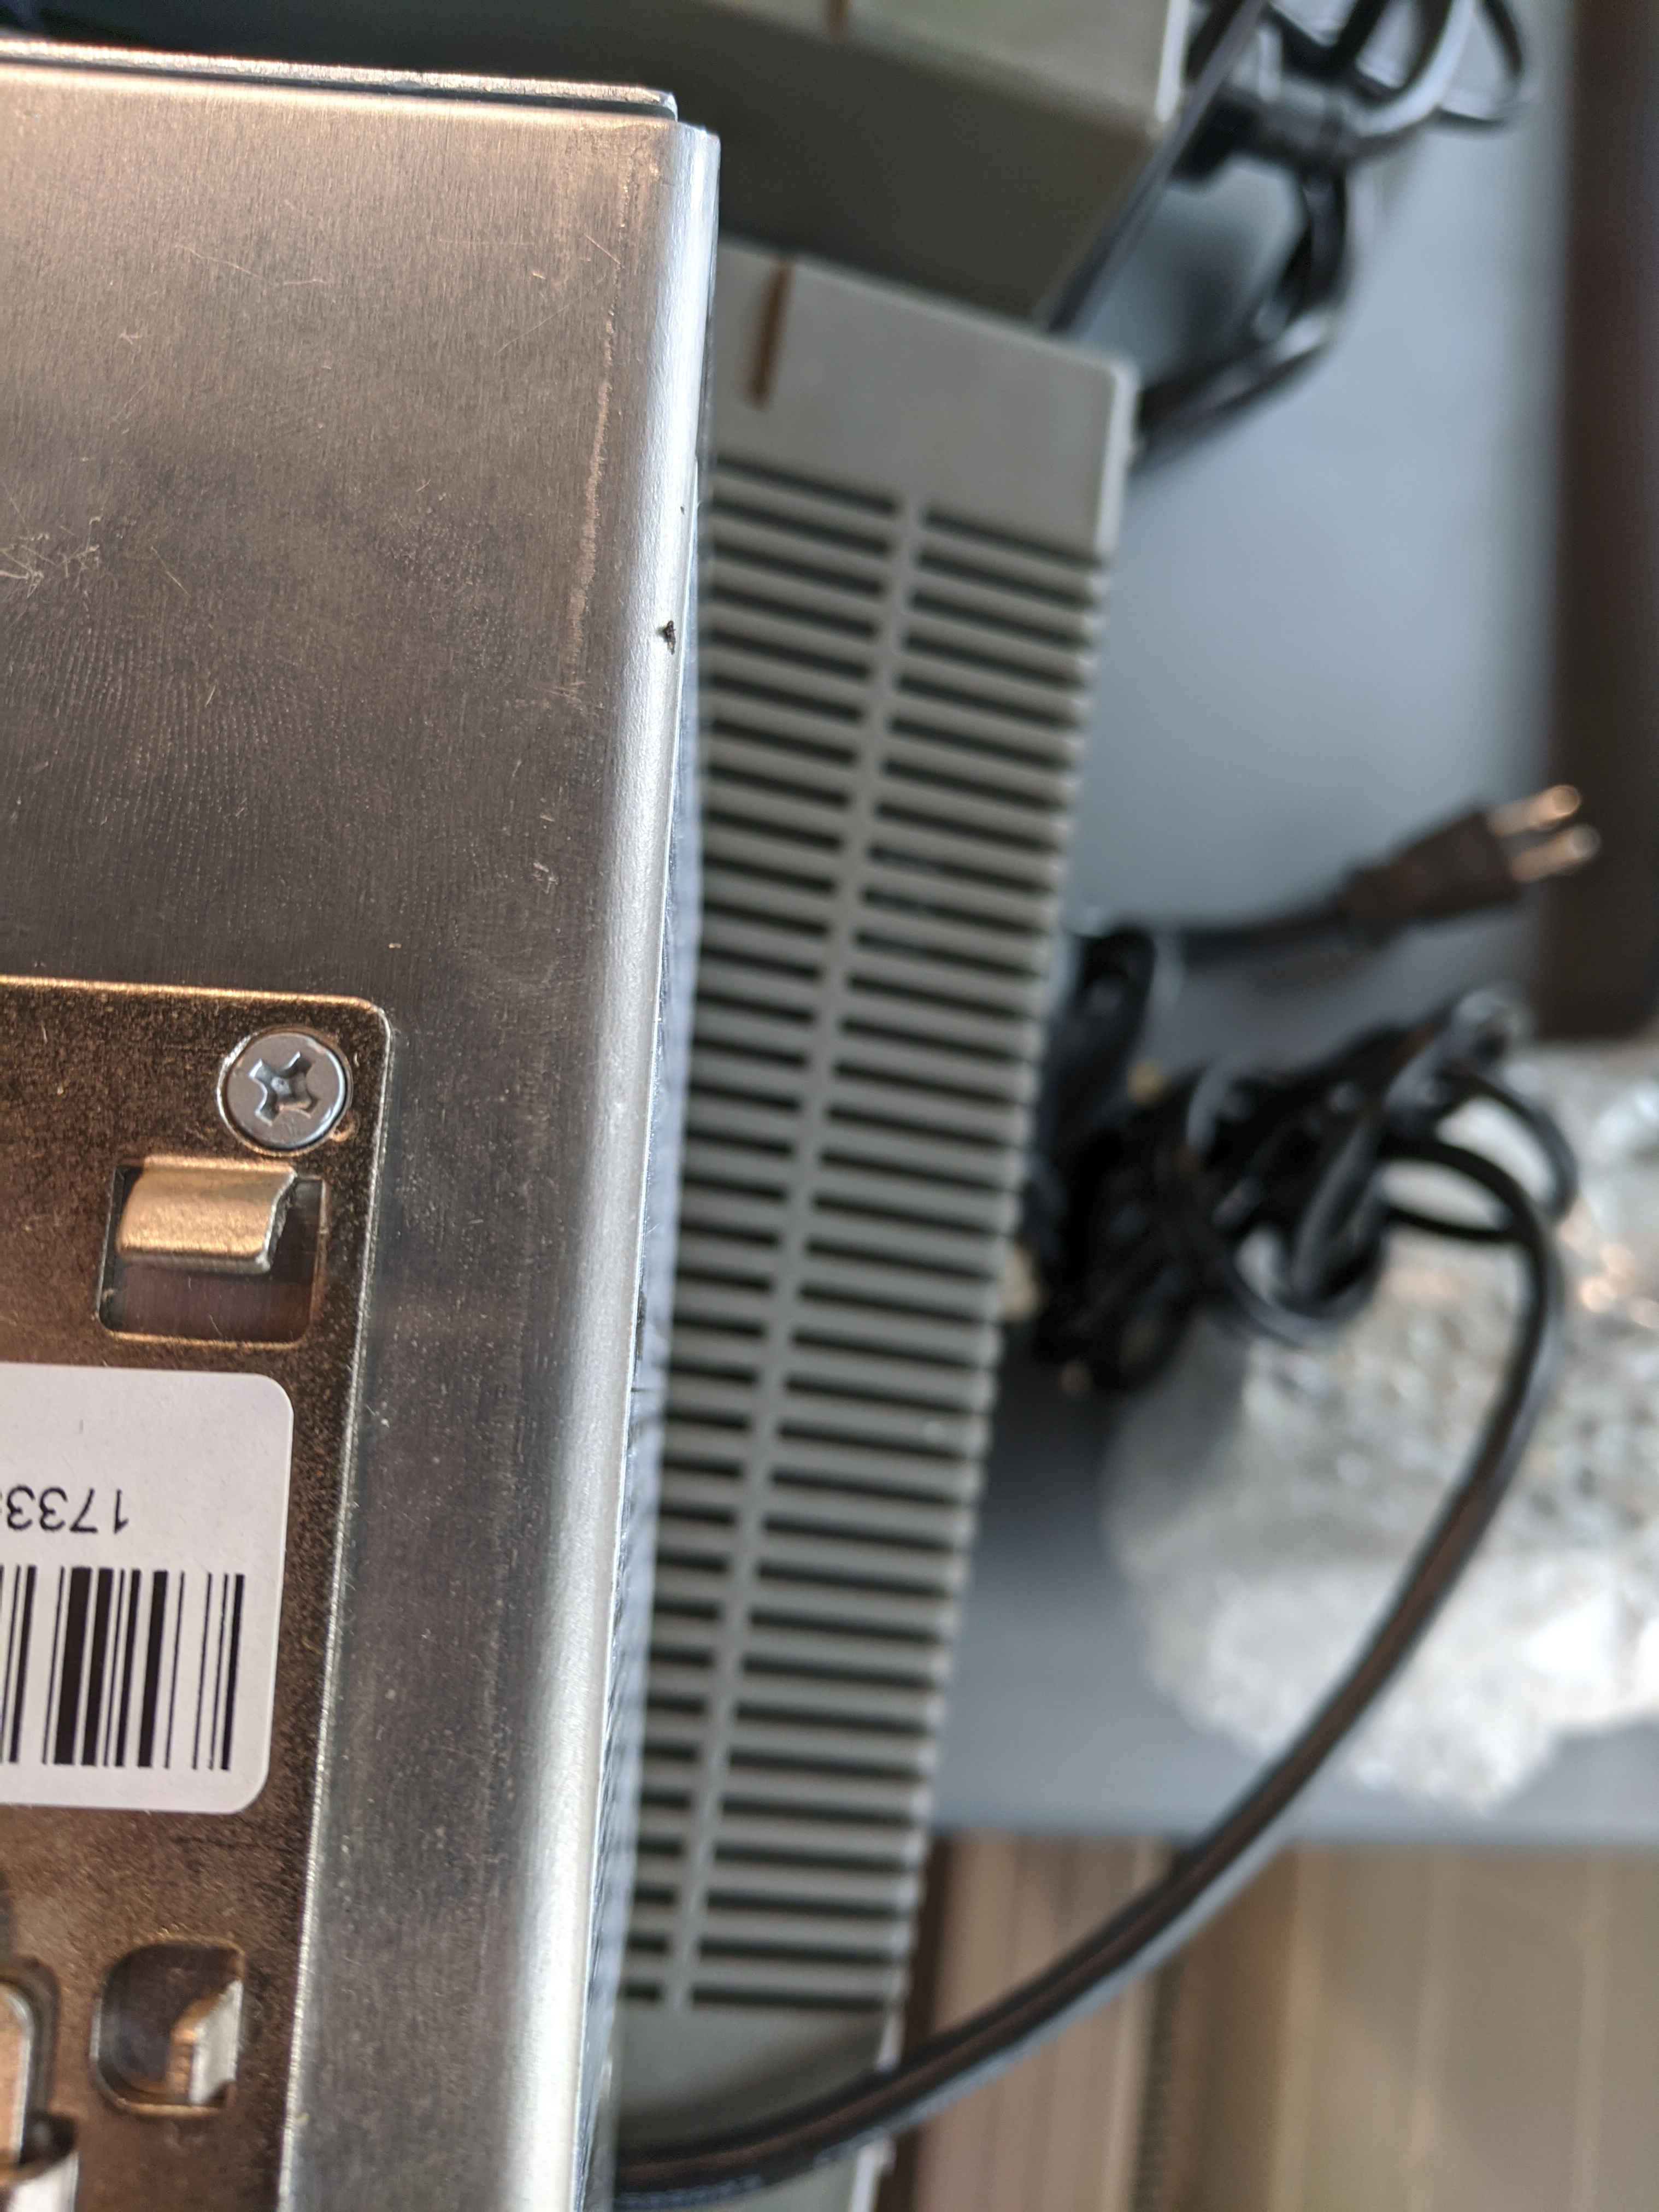cross_recessed_screw: (209, 1010, 357, 1150)
